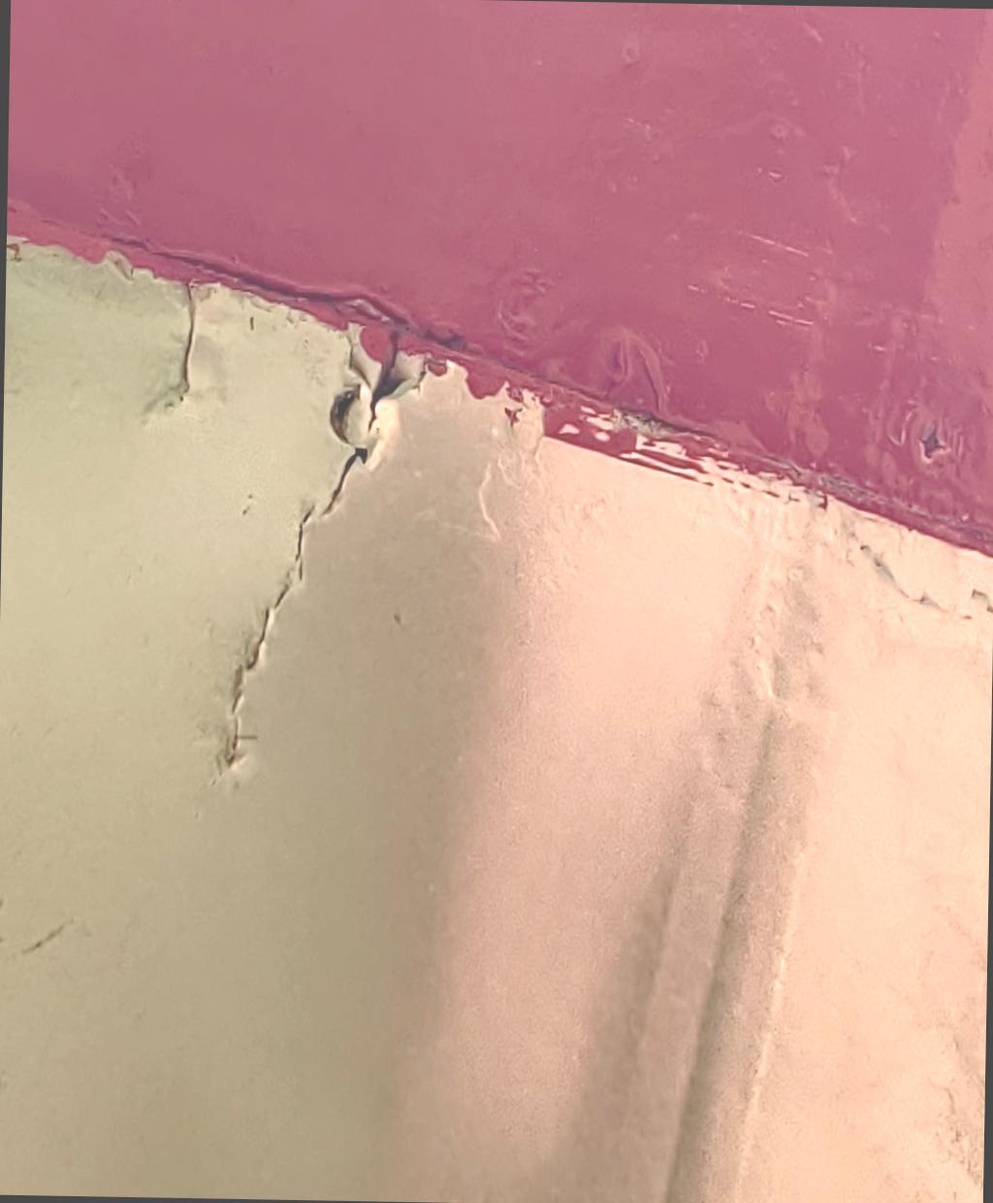crack: (188, 303, 449, 832), (114, 255, 244, 450)
